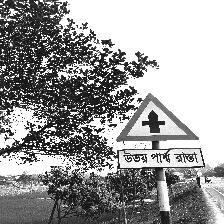Crossroad: (114, 93, 203, 170)
